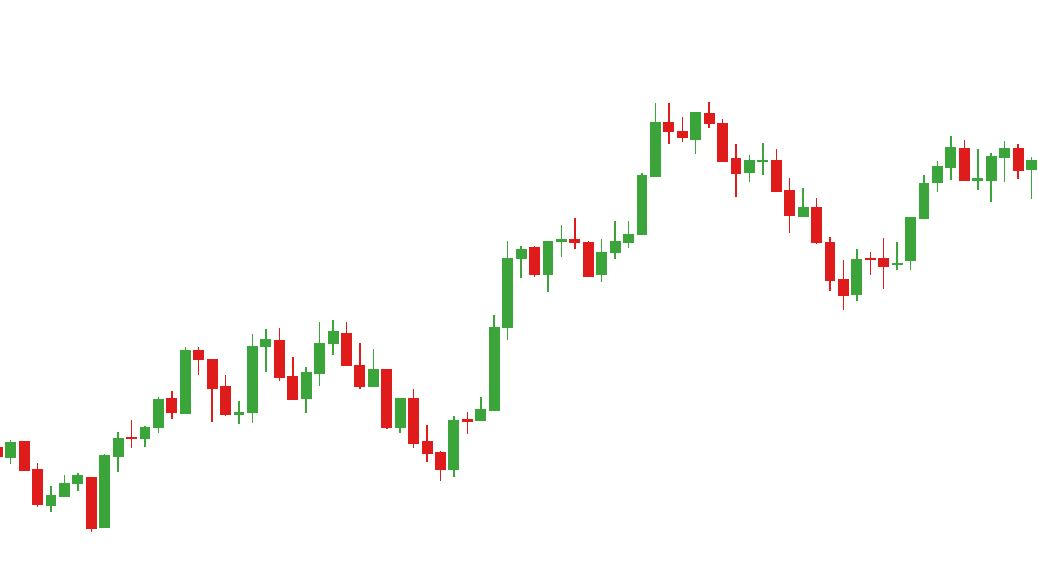sell: (259, 319, 352, 376)
